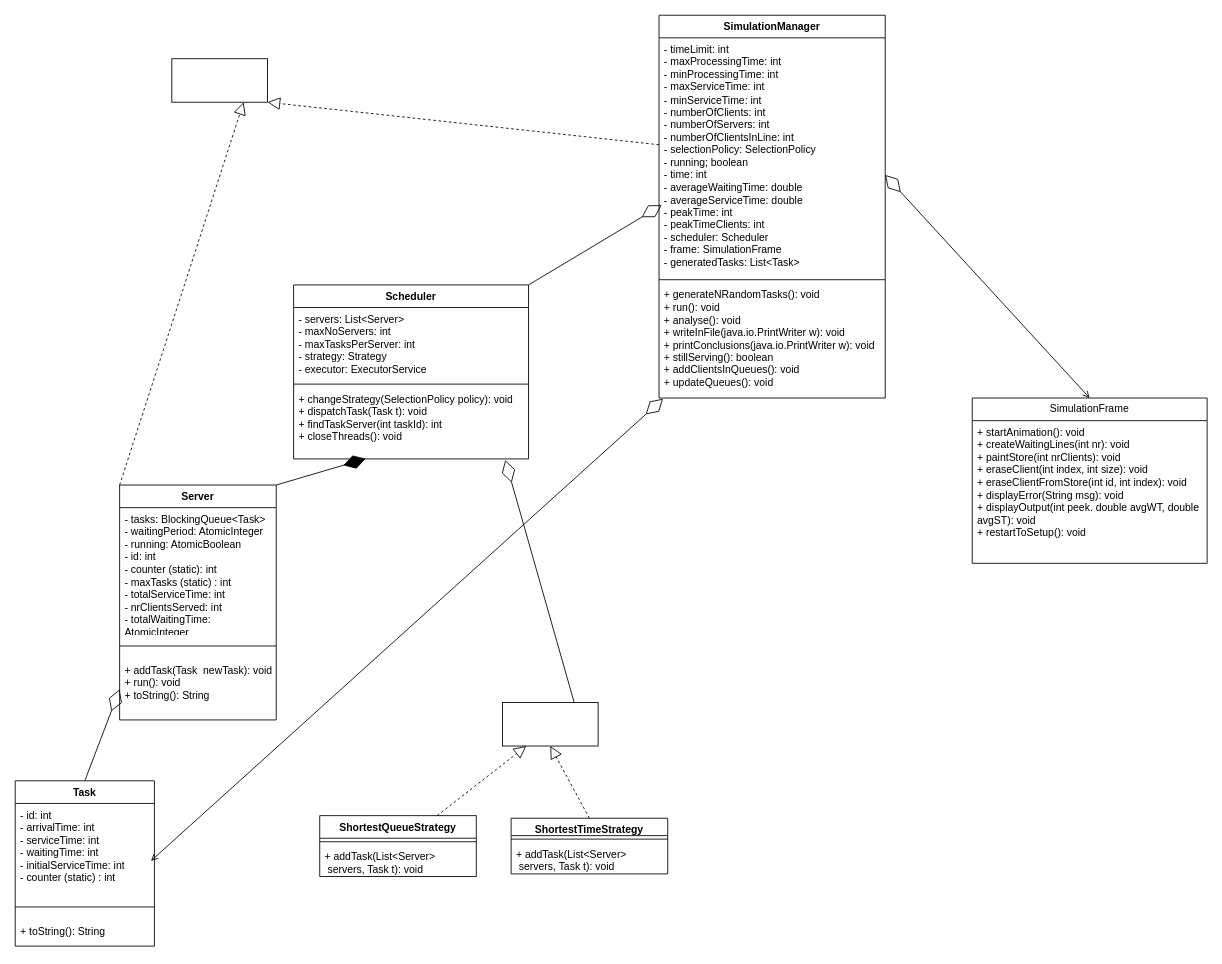
The diagram is 1222 pixels wide and 964 high, and some of its shapes have lost their labels. Each missing label, with the centre of its shape:
"«interface» Runnable" belongs at (219,80).
"«interface» Strategy" belongs at (550,724).
